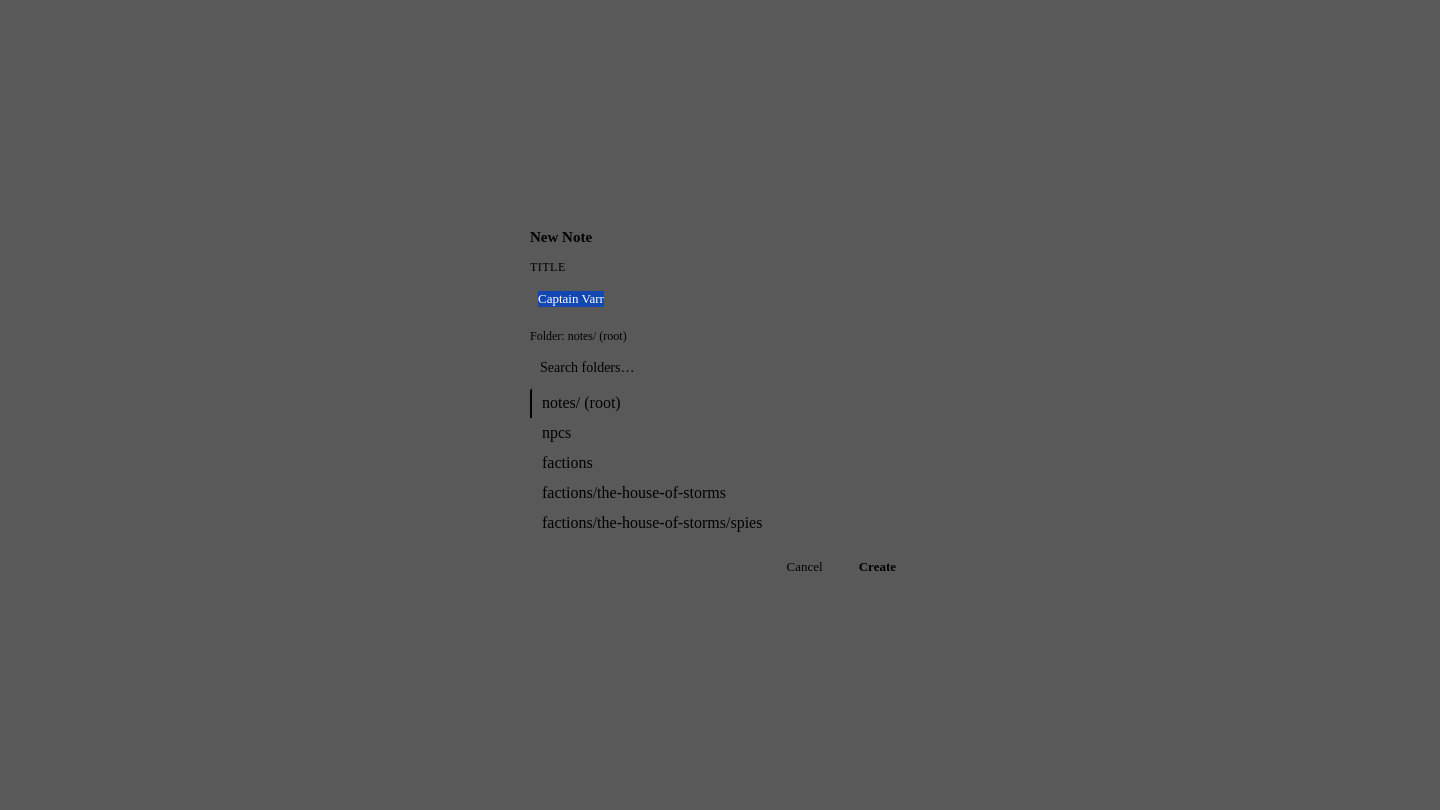
NewNoteDialog › clicking a folder row sets the folder without submitting
Type "npcs" into the field with class "searchable-picker-input" at (720, 368), box 530,354 -> 910,382
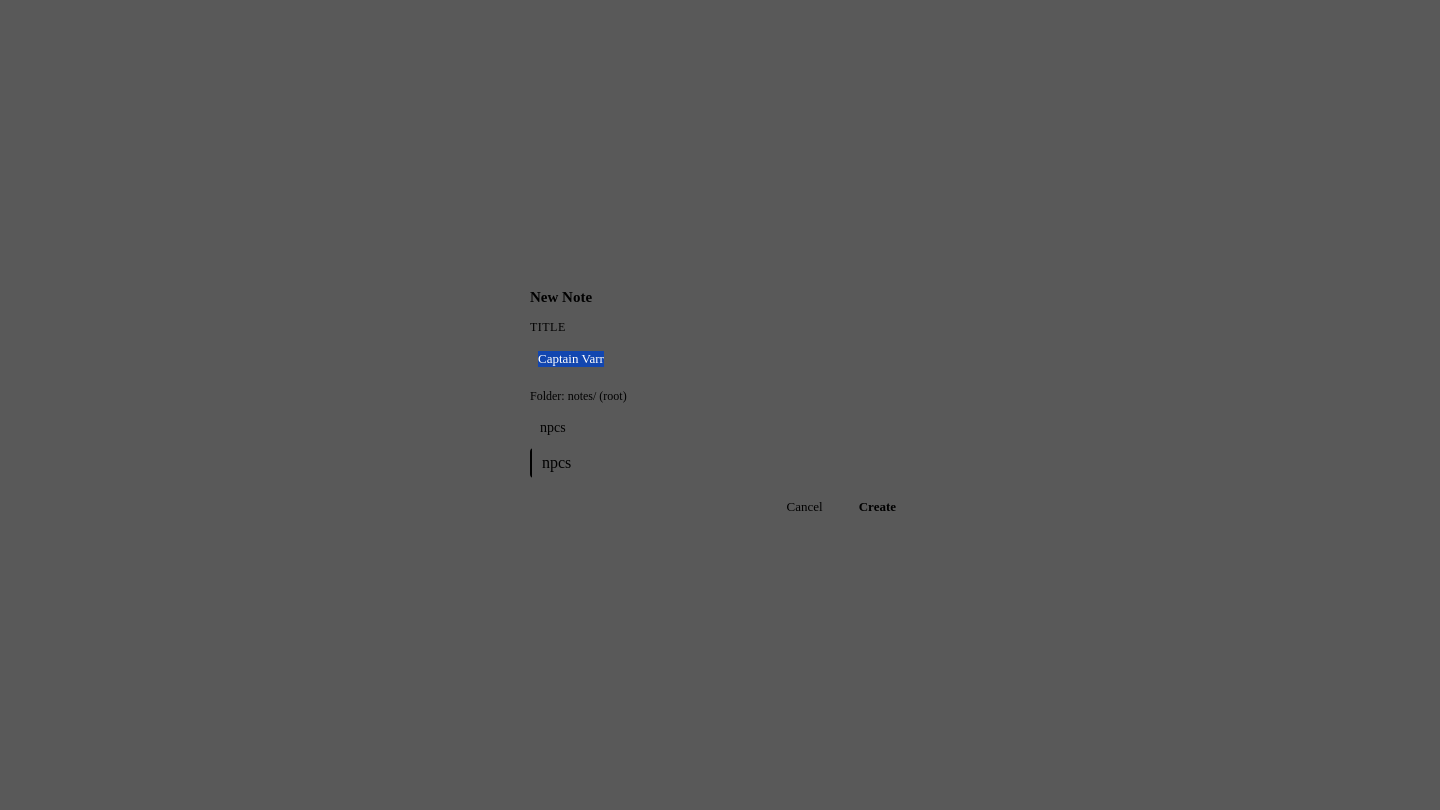
Press the mouse on the option with class "searchable-picker-row" at (557, 462), box 530,448 -> 910,478
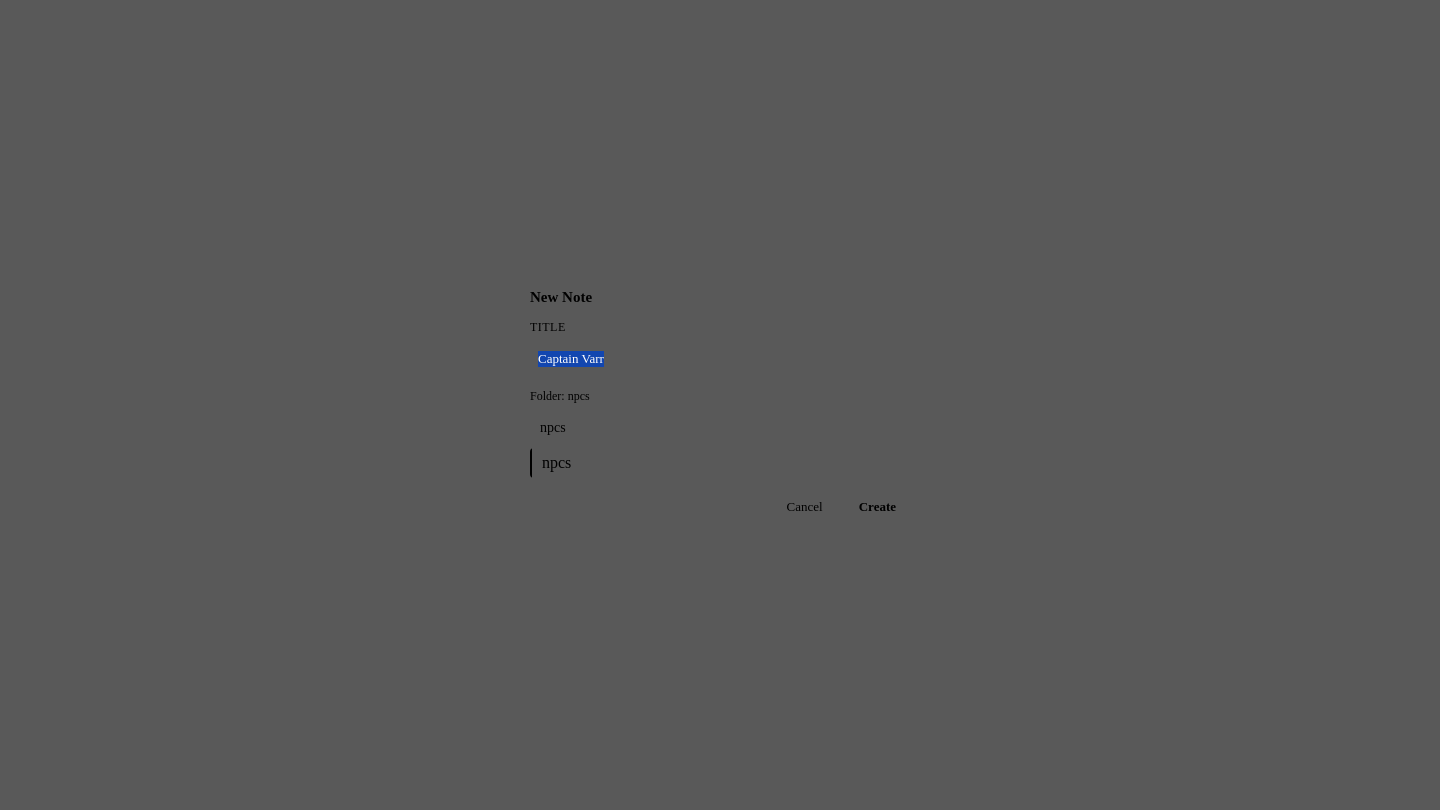
Expected: the text with class "new-note-current-folder" shows "npcs", 568,388 -> 590,402
